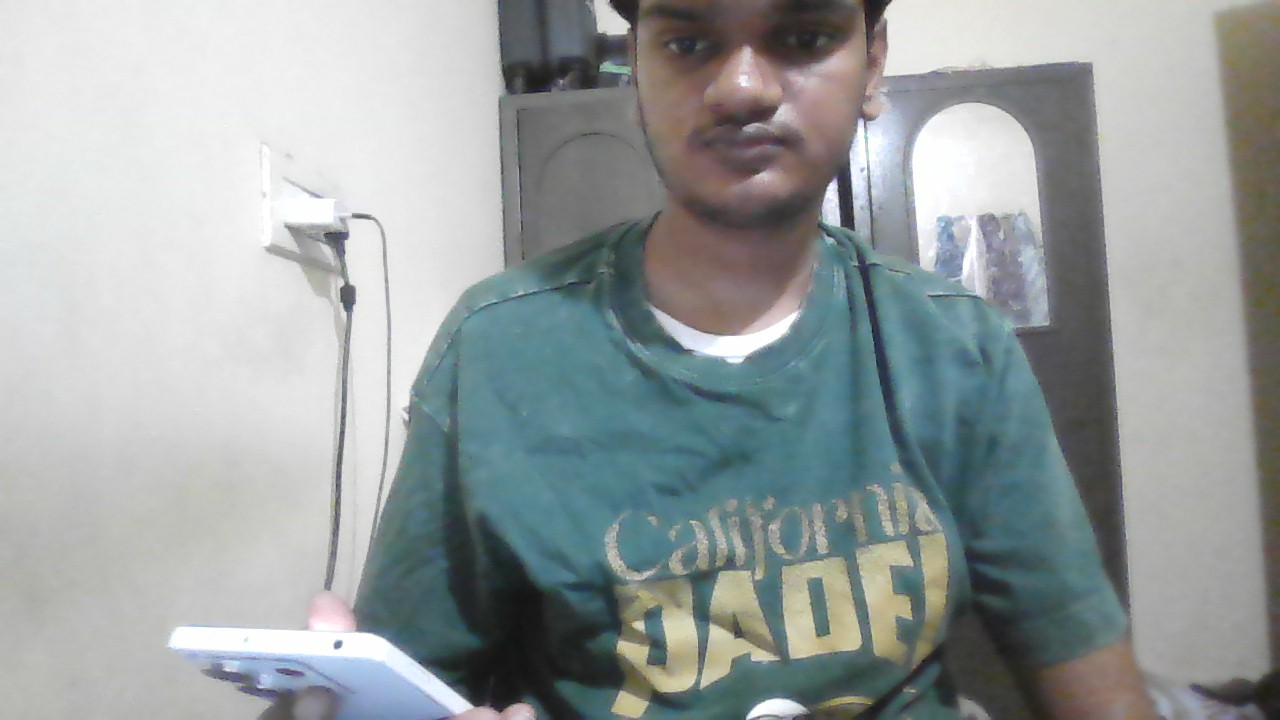phone: (159, 627, 451, 703)
